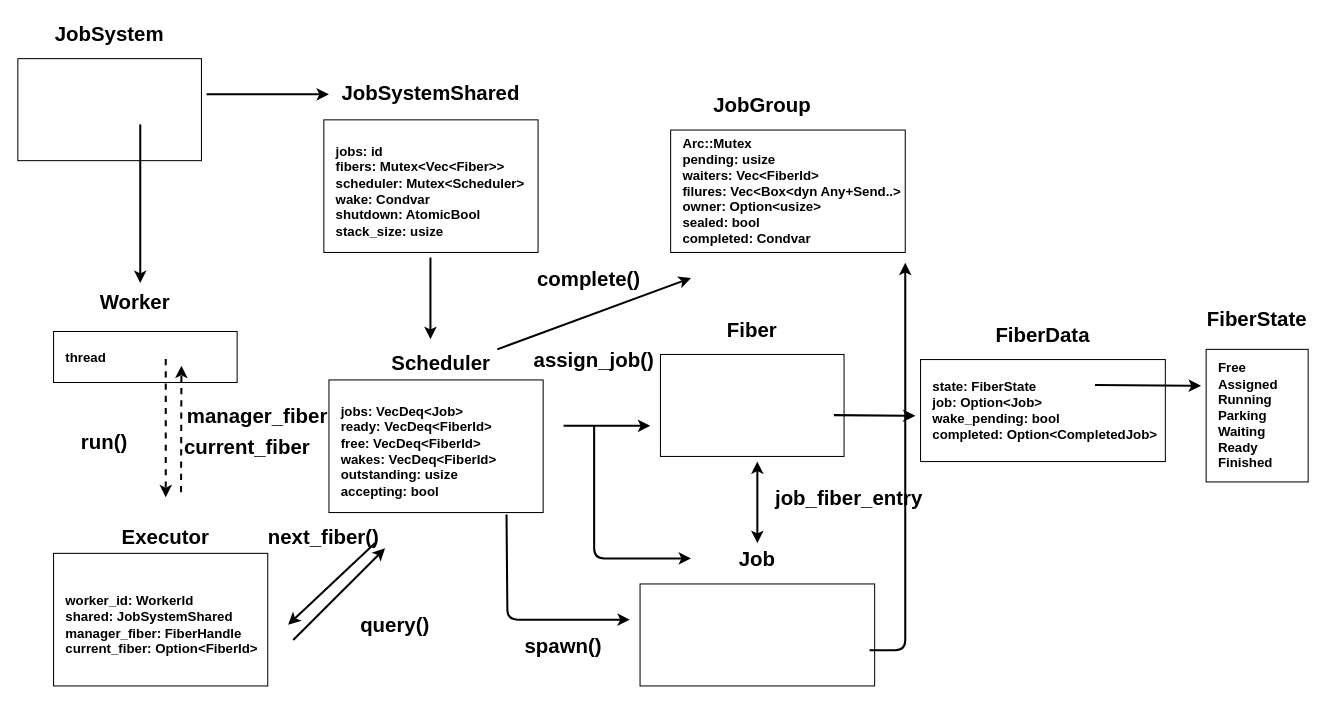
Some shapes in this 1331 by 704 pixel diagram are drawn without their labels. The centre of each missing label's shape, as x and y in pixels:
id: FiberId handle: FiberHandle data: Mutex<FiberData>: (751,404)
shared: JobSystemShared workers: Vec<Worker>: (109,109)
task: Box<dyn FnOnce> ... group: JobGroup scope_group: Option<JobGroup>: (757,634)
